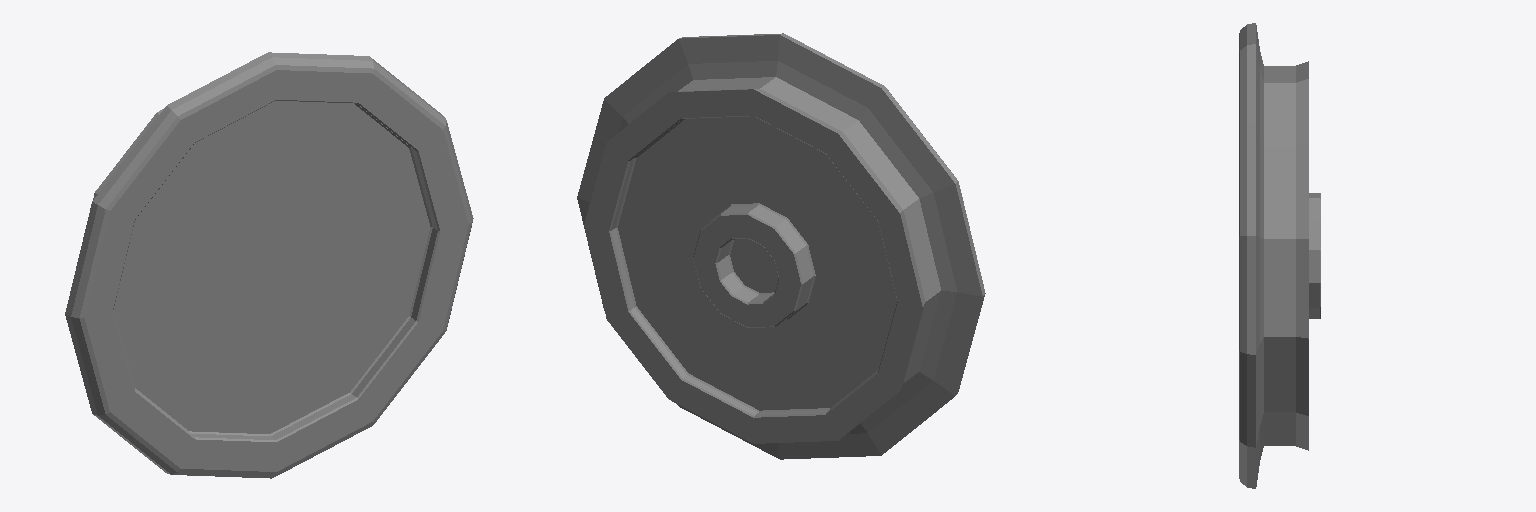
Rendered from left_front_small_wheel.obj.
3 views of the same model, side by side, from view 1: azimuth 30°, elevation 25°; view 2: azimuth 150°, elevation 25°; view 3: azimuth 270°, elevation 25° (orthographic).
Visible parts, largest first — view 1: left_front_small_wheel; view 2: left_front_small_wheel; view 3: left_front_small_wheel.
Boxes of the visible parts, <box> form: left_front_small_wheel: <box>65,52,473,478</box>; left_front_small_wheel: <box>577,33,985,459</box>; left_front_small_wheel: <box>1239,23,1320,488</box>.
Bounding box in the file's own units: 8.17 × 8.17 × 1.44.